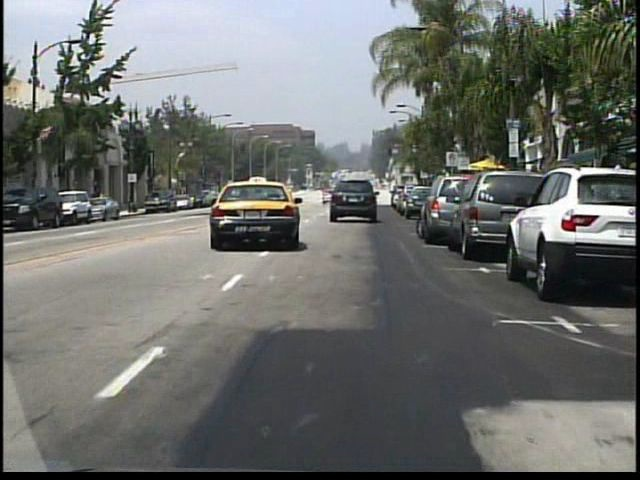person: (91, 187, 103, 215), (98, 189, 109, 215)
